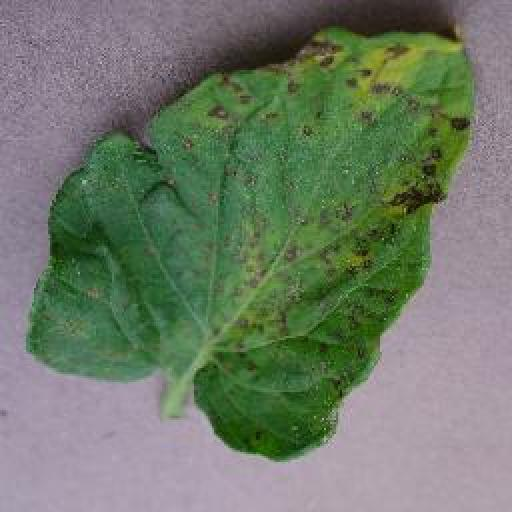Septoria: (27, 26, 479, 462)
